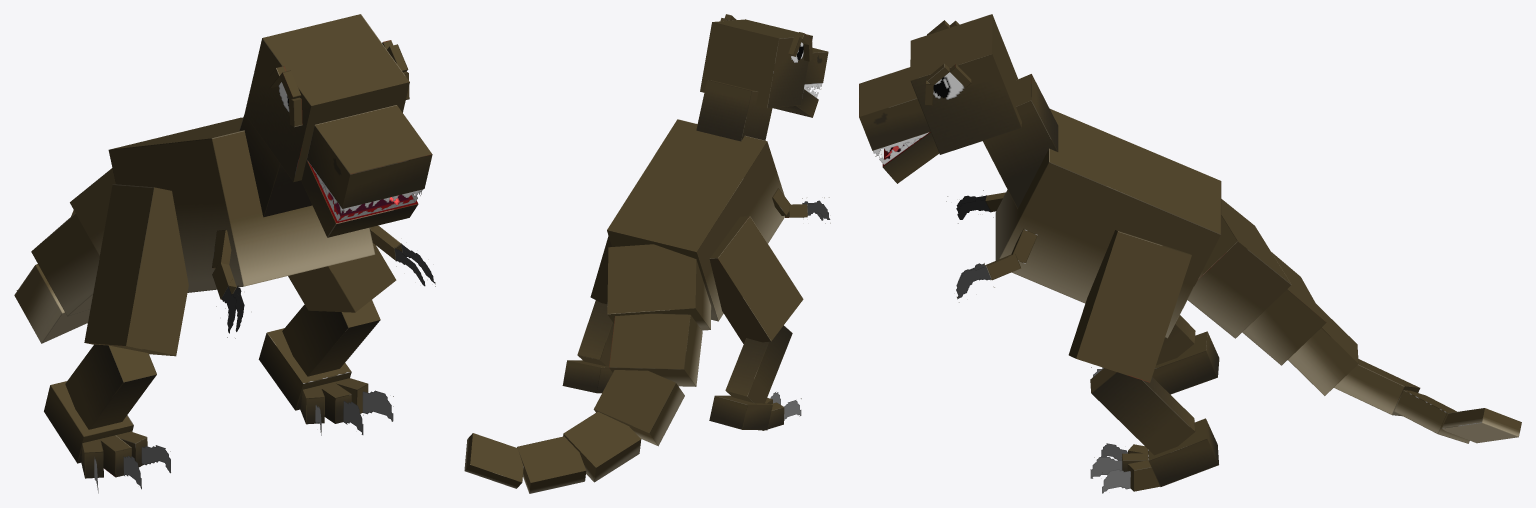
Rendered from animateddinosaur21.obj.
3 renders of one model, left to right at view 1: azimuth 30°, elevation 25°; view 2: azimuth 150°, elevation 25°; view 3: azimuth 270°, elevation 25°, orthographic. The views are drawn at different scales.
Visible parts, largest first — view 1: Object_6, Object_64, Object_9, Object_56, Object_12, Object_34, Object_95, Object_31, Object_53, Object_79, Object_98, Object_37 (+13 smaller); view 2: Object_6, Object_9, Object_64, Object_92, Object_95, Object_98, Object_53, Object_101, Object_12, Object_104, Object_107, Object_15 (+5 smaller); view 3: Object_6, Object_31, Object_64, Object_92, Object_34, Object_53, Object_56, Object_95, Object_98, Object_37, Object_15, Object_101 (+5 smaller).
Part boxes in pixels (x1,y1,x2,y2): Object_6: (108, 117, 375, 292); Object_64: (244, 14, 409, 182); Object_9: (84, 184, 188, 356); Object_56: (306, 105, 432, 208); Object_12: (65, 344, 156, 429); Object_34: (282, 300, 380, 376); Object_95: (31, 213, 99, 316); Object_31: (288, 243, 396, 312); Object_53: (239, 114, 312, 217); Object_79: (301, 160, 418, 237); Object_98: (14, 264, 90, 343); Object_37: (258, 328, 351, 410); Object_6: (607, 119, 784, 321); Object_9: (709, 216, 803, 343); Object_64: (700, 19, 812, 107); Object_92: (607, 244, 711, 330); Object_95: (609, 313, 702, 386); Object_98: (593, 370, 684, 446); Object_53: (696, 80, 772, 141); Object_101: (563, 412, 641, 482); Object_12: (725, 325, 792, 403); Object_104: (517, 436, 586, 493); Object_107: (464, 433, 523, 488); Object_15: (709, 395, 772, 430); Object_6: (995, 109, 1221, 338); Object_31: (1068, 230, 1191, 382); Object_64: (910, 14, 1021, 154); Object_92: (1187, 199, 1291, 338); Object_34: (1090, 368, 1195, 455); Object_53: (983, 74, 1058, 208); Object_56: (859, 67, 930, 150); Object_95: (1242, 252, 1326, 365); Object_98: (1288, 304, 1358, 395); Object_37: (1148, 418, 1218, 486); Object_15: (1152, 331, 1219, 394); Object_101: (1334, 359, 1420, 416).
Size of the model in its own units: 2.25 by 3.49 by 5.24.
